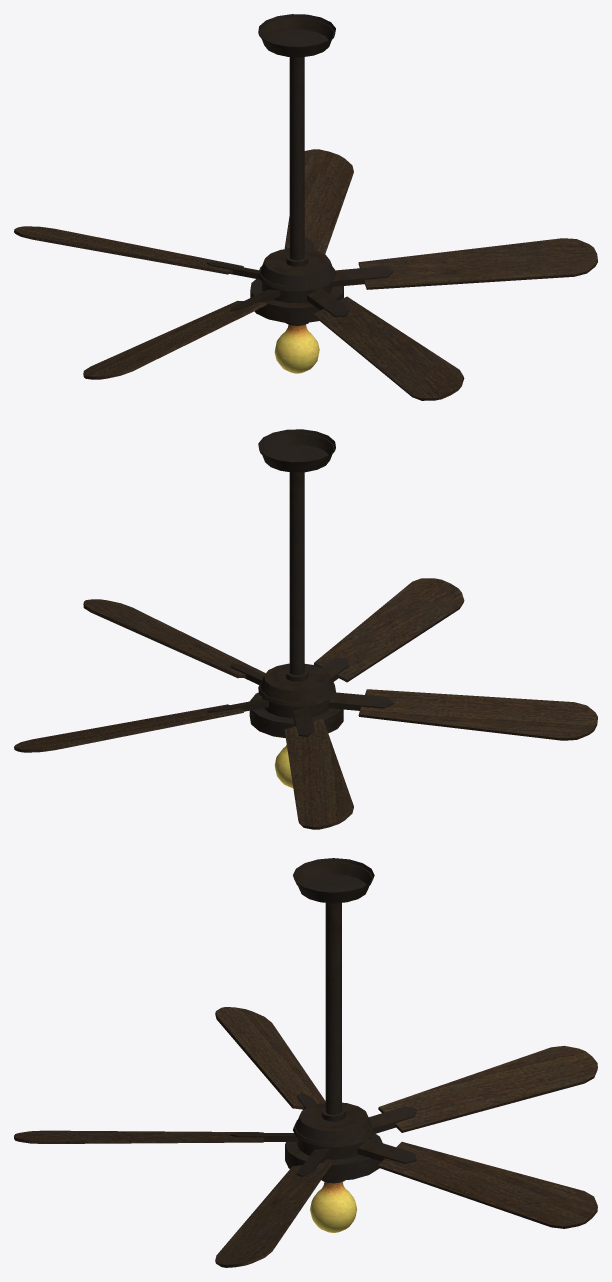
Rendered from ceiling_fan_mp_2_1_light_on.obj.
3 renders of one model, top to bottom at view 1: azimuth 30°, elevation 25°; view 2: azimuth 150°, elevation 25°; view 3: azimuth 270°, elevation 25°, orthographic. The views are drawn at different scales.
Visible parts, largest first — view 1: ceiling_fan_mp_2_1_light_on_blades, ceiling_fan_mp_2_1_light_on; view 2: ceiling_fan_mp_2_1_light_on_blades, ceiling_fan_mp_2_1_light_on; view 3: ceiling_fan_mp_2_1_light_on_blades, ceiling_fan_mp_2_1_light_on.
Part boxes in pixels (x1=…): ceiling_fan_mp_2_1_light_on_blades: x1=14, y1=149, x2=597, y2=400; ceiling_fan_mp_2_1_light_on: x1=250, y1=14, x2=343, y2=373; ceiling_fan_mp_2_1_light_on_blades: x1=14, y1=578, x2=597, y2=829; ceiling_fan_mp_2_1_light_on: x1=249, y1=429, x2=343, y2=788; ceiling_fan_mp_2_1_light_on_blades: x1=14, y1=1007, x2=597, y2=1267; ceiling_fan_mp_2_1_light_on: x1=285, y1=858, x2=382, y2=1232.
Bounding box in the file's own units: 1.11 × 0.7128 × 1.06.
